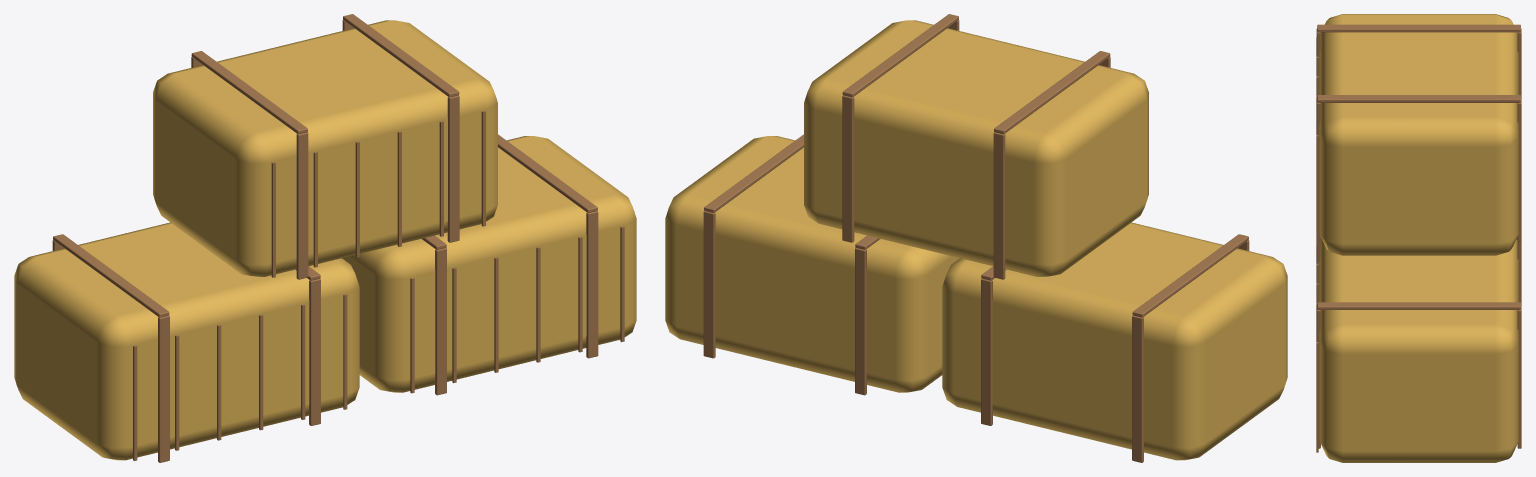
Rendered from almanac-gardens-hay-stack-fbc73986__22084.glb.
3 views of the same model, side by side, from view 1: azimuth 30°, elevation 25°; view 2: azimuth 150°, elevation 25°; view 3: azimuth 270°, elevation 25° (orthographic). The views are drawn at different scales.
Parts seen in each view (by area): view 1: hay-stack-gold, hay-stack-oak; view 2: hay-stack-gold, hay-stack-oak; view 3: hay-stack-gold, hay-stack-oak.
Part boxes in pixels (box(x1,y1,x2,y2)): hay-stack-gold: box(14, 20, 636, 460); hay-stack-oak: box(52, 14, 624, 462); hay-stack-gold: box(665, 20, 1287, 460); hay-stack-oak: box(703, 14, 1249, 462); hay-stack-gold: box(1319, 14, 1518, 462); hay-stack-oak: box(1316, 24, 1521, 452).
Size of the model in its own units: 1.28 by 0.679 by 0.4439.
